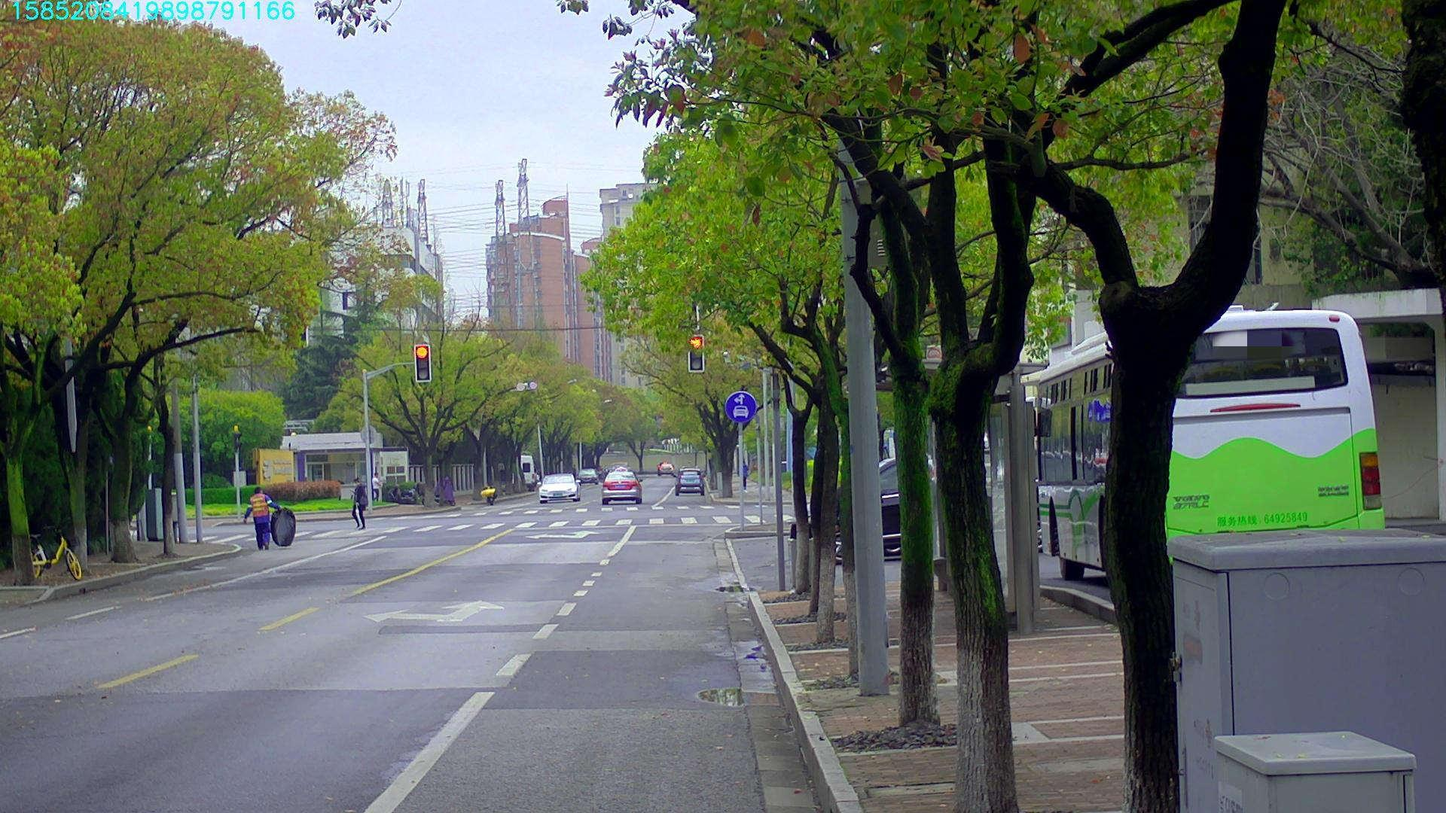red: (688, 336, 703, 370), (415, 346, 429, 380)
